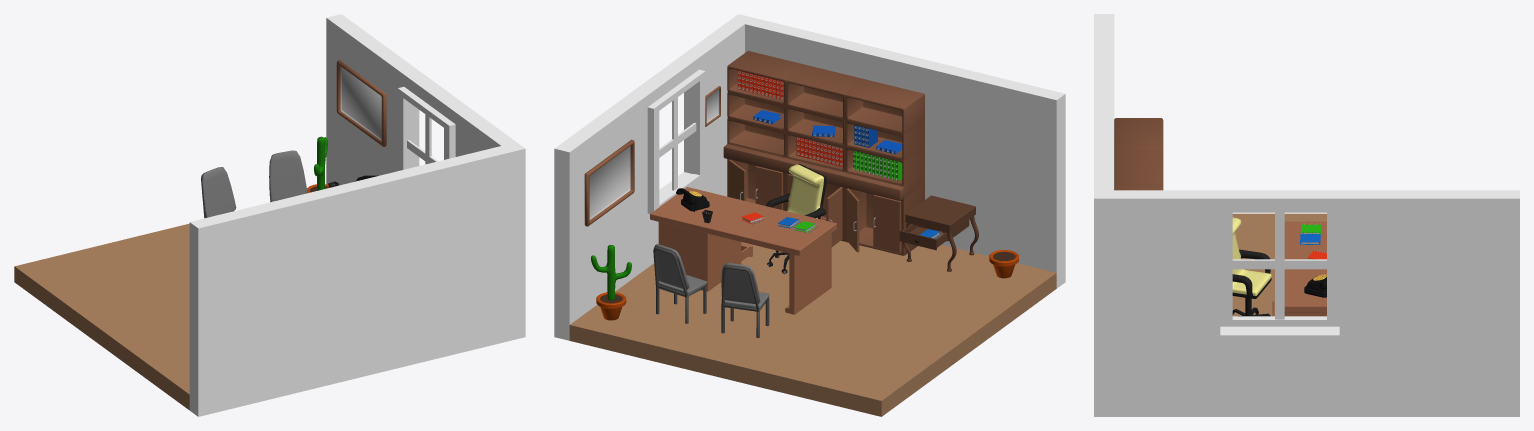
Rendered from office_compressed.glb.
The picture shows the model from 3 angles, left to right: view 1: azimuth 30°, elevation 25°; view 2: azimuth 150°, elevation 25°; view 3: azimuth 270°, elevation 25°; orthographic projection. The views are drawn at different scales.
Visible parts, largest first — view 1: Object_16, Object_83, Object_55, Object_58, Object_53; view 2: Object_16, Object_63, Object_87, Object_83, Object_97, Object_61, Object_80, Object_58, Object_55, Object_68, Object_24, Object_56 (+11 smaller); view 3: Object_16, Object_63, Object_87, Object_61.
Boxes of the visible parts, bbox=[...] form: Object_16: bbox=[14, 14, 525, 416]; Object_83: bbox=[336, 60, 386, 146]; Object_55: bbox=[269, 150, 307, 201]; Object_58: bbox=[201, 167, 236, 217]; Object_53: bbox=[314, 136, 327, 190]; Object_16: bbox=[554, 14, 1065, 416]; Object_63: bbox=[723, 51, 924, 255]; Object_87: bbox=[650, 187, 836, 314]; Object_83: bbox=[584, 139, 634, 226]; Object_97: bbox=[902, 195, 978, 271]; Object_61: bbox=[766, 163, 826, 274]; Object_80: bbox=[873, 195, 901, 253]; Object_58: bbox=[721, 263, 769, 308]; Object_55: bbox=[653, 244, 707, 294]; Object_68: bbox=[755, 166, 783, 209]; Object_24: bbox=[853, 150, 902, 180]; Object_56: bbox=[653, 246, 706, 323]; Object_16: bbox=[1094, 14, 1519, 416]; Object_63: bbox=[1114, 118, 1163, 190]; Object_87: bbox=[1284, 221, 1326, 316]; Object_61: bbox=[1232, 217, 1271, 316].
Bounding box in the file's own units: 6.43 × 3.54 × 6.26.
2 materials, 2 textured.
